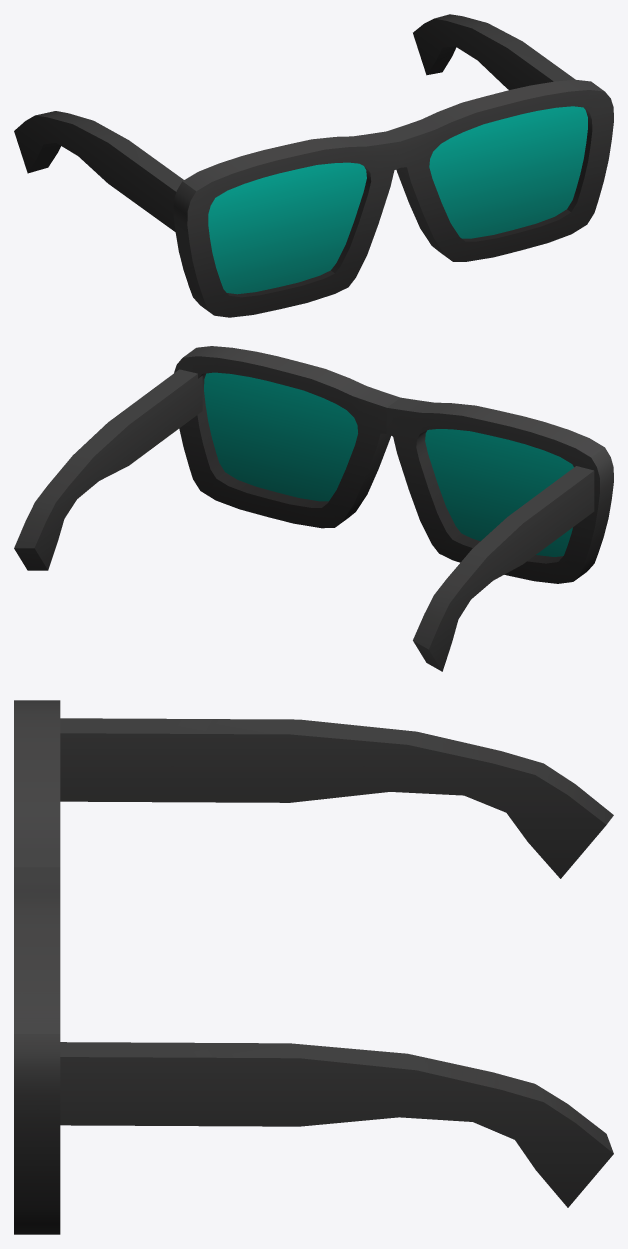
The model's file is Head_Prop_Sunglasses_01.fbx.
3 renders of one model, top to bottom at view 1: azimuth 30°, elevation 25°; view 2: azimuth 150°, elevation 25°; view 3: azimuth 270°, elevation 25°, orthographic. The views are drawn at different scales.
Visible parts, largest first — view 1: Head_Prop_Sunglasses_01; view 2: Head_Prop_Sunglasses_01; view 3: Head_Prop_Sunglasses_01.
Boxes of the visible parts, left/top/right/bottom form: Head_Prop_Sunglasses_01: left=14, top=14, right=613, bottom=317; Head_Prop_Sunglasses_01: left=14, top=346, right=613, bottom=671; Head_Prop_Sunglasses_01: left=14, top=700, right=613, bottom=1234.
Bounding box in the file's own units: 108 × 36.11 × 78.27.
